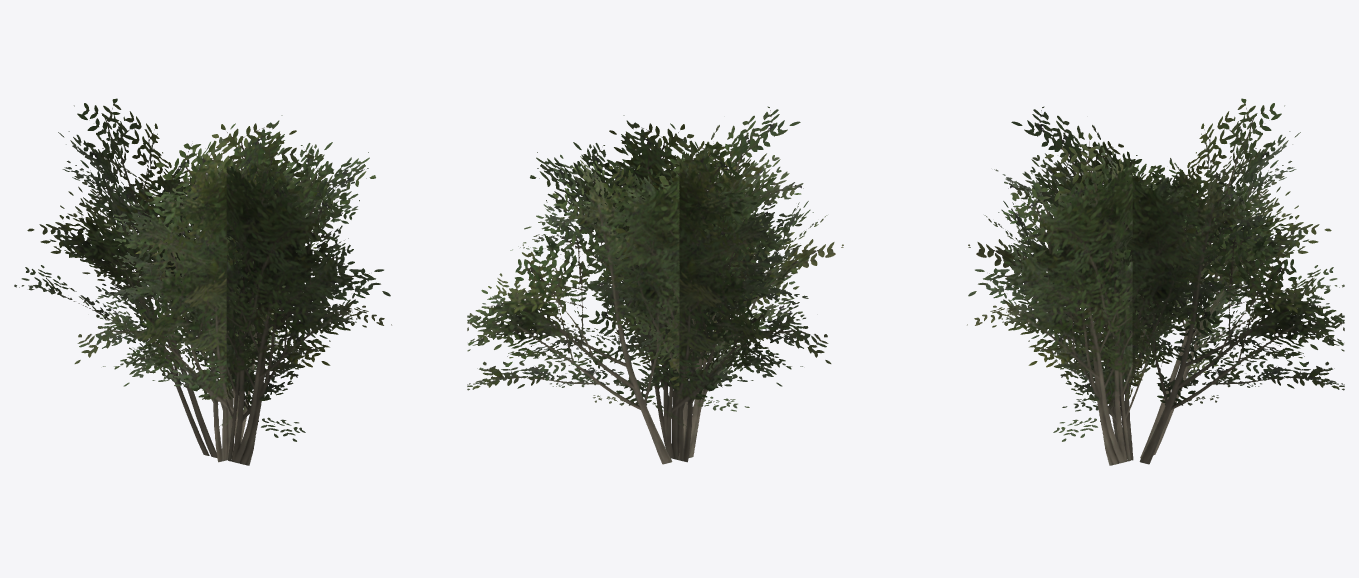
Rendered from bez_cerny_2_daleko.glb.
3 renders of one model, left to right at view 1: azimuth 30°, elevation 25°; view 2: azimuth 150°, elevation 25°; view 3: azimuth 270°, elevation 25°, orthographic.
Parts seen in each view (by area): view 1: bez_cerny_2_daleko; view 2: bez_cerny_2_daleko; view 3: bez_cerny_2_daleko.
Boxes of the visible parts, <box> form: bez_cerny_2_daleko: <box>14,98,391,465</box>; bez_cerny_2_daleko: <box>467,106,843,464</box>; bez_cerny_2_daleko: <box>967,98,1344,465</box>.
Bounding box in the file's own units: 3.9 × 3.01 × 3.38.
Materials: 3 (3 with a texture image).
